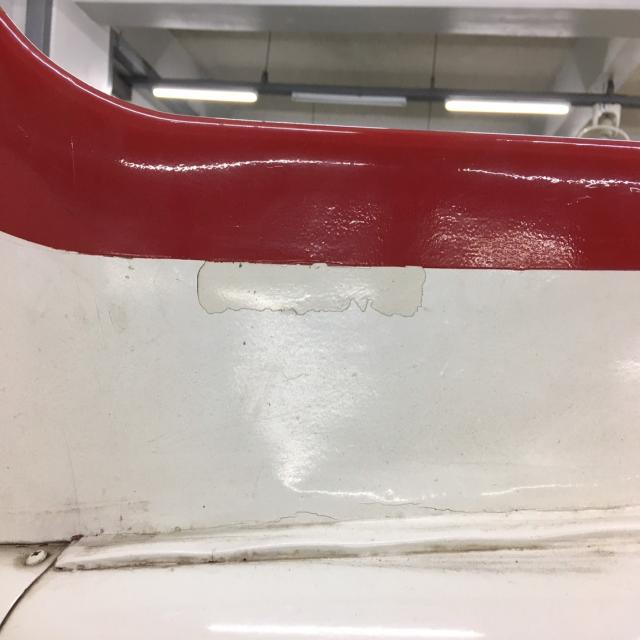Rupture: (192, 238, 436, 369), (230, 484, 534, 538)
